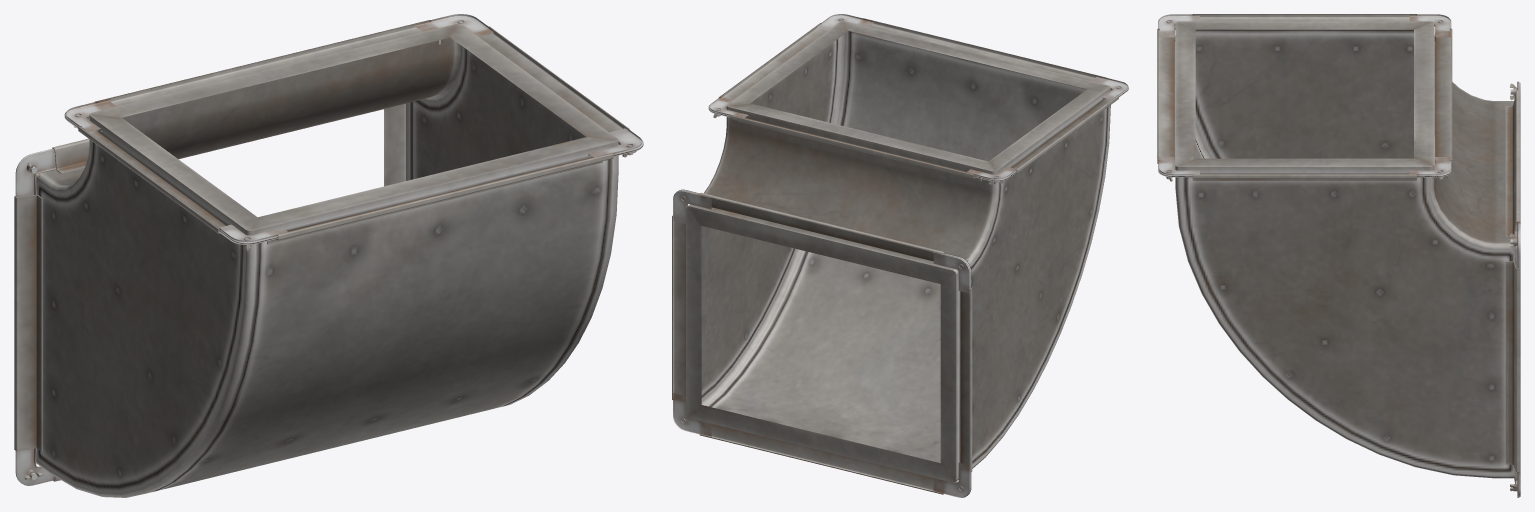
Rendered from bend_01.glb.
3 renders of one model, left to right at view 1: azimuth 30°, elevation 25°; view 2: azimuth 150°, elevation 25°; view 3: azimuth 270°, elevation 25°, orthographic. The views are drawn at different scales.
Parts seen in each view (by area): view 1: modular_airduct_rectangular_01_bend_01.001; view 2: modular_airduct_rectangular_01_bend_01.001; view 3: modular_airduct_rectangular_01_bend_01.001.
Boxes of the visible parts, bbox=[...] form: modular_airduct_rectangular_01_bend_01.001: bbox=[14, 14, 643, 497]; modular_airduct_rectangular_01_bend_01.001: bbox=[672, 14, 1128, 497]; modular_airduct_rectangular_01_bend_01.001: bbox=[1157, 14, 1520, 497].
Bounding box in the file's own units: 0.6634 × 0.6314 × 0.6314.
1 material, 1 textured.
